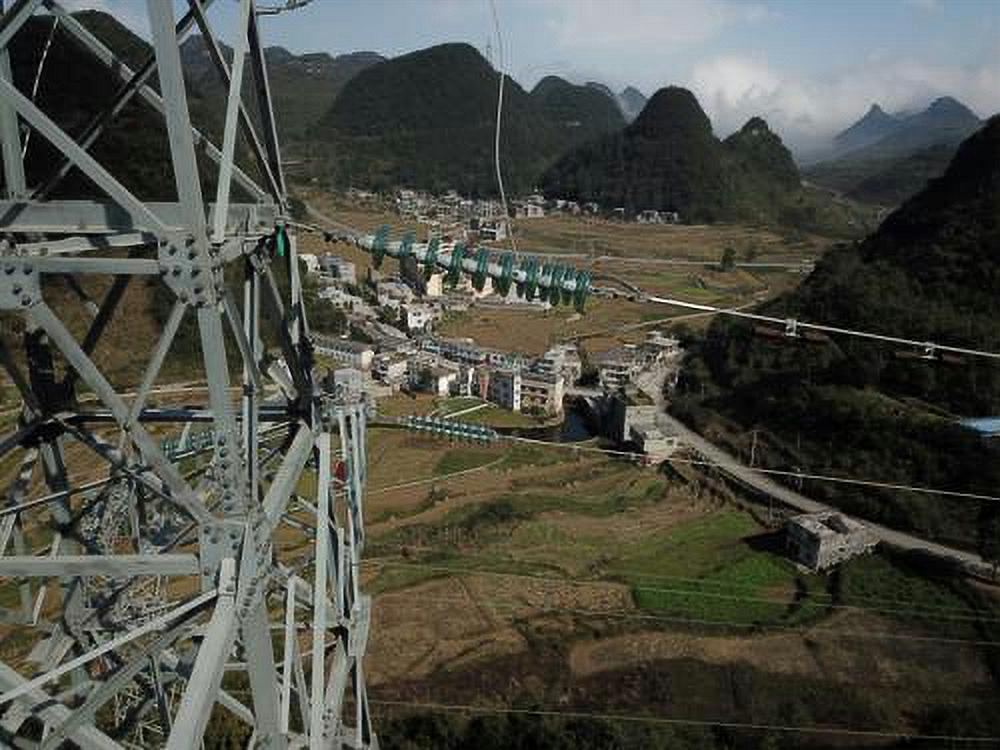insulator: (368, 220, 596, 317), (404, 408, 498, 450)
